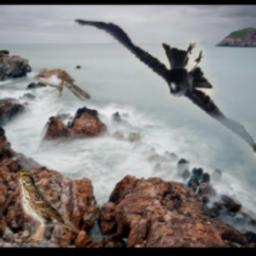Crow: (75, 19, 256, 172)
Cuckoo: (34, 69, 92, 102), (81, 199, 100, 220)
Sparrow: (15, 170, 81, 243)
